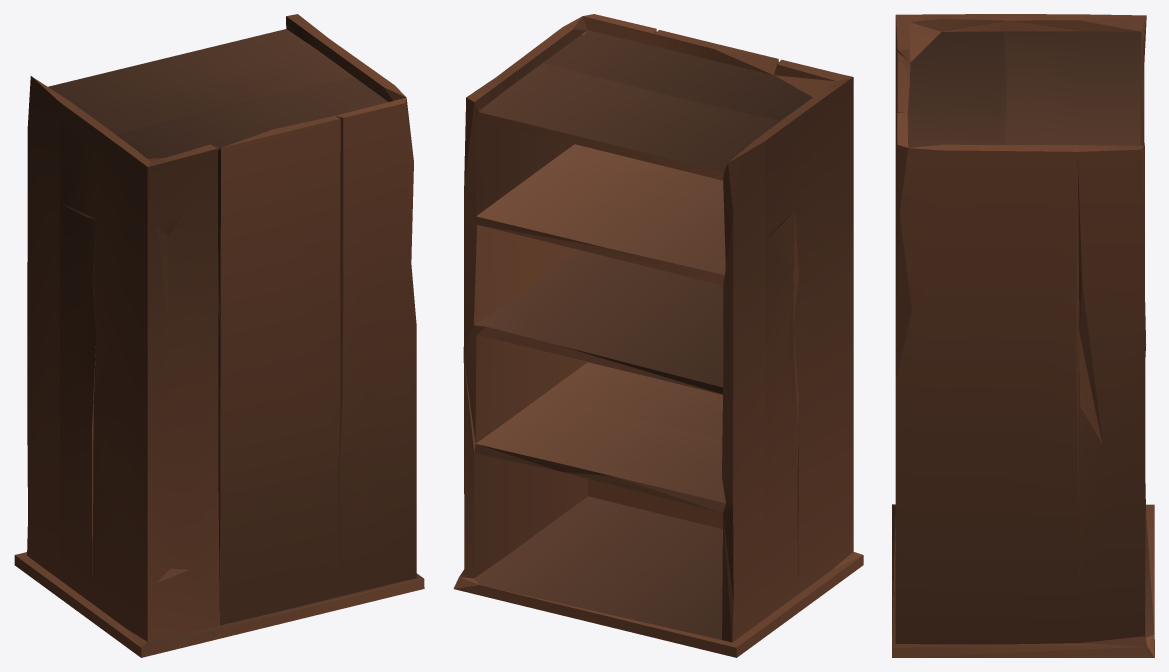
Rendered from Cupboard.fbx.
The picture shows the model from 3 angles, left to right: view 1: azimuth 30°, elevation 25°; view 2: azimuth 150°, elevation 25°; view 3: azimuth 270°, elevation 25°; orthographic projection. The views are drawn at different scales.
Parts seen in each view (by area): view 1: cupboarShabby; view 2: cupboarShabby; view 3: cupboarShabby.
Part boxes in pixels (<box>): cupboarShabby: <box>14,14,424,657</box>; cupboarShabby: <box>453,14,863,657</box>; cupboarShabby: <box>892,14,1154,657</box>.
Bounding box in the file's own units: 124 × 204 × 96.12.
